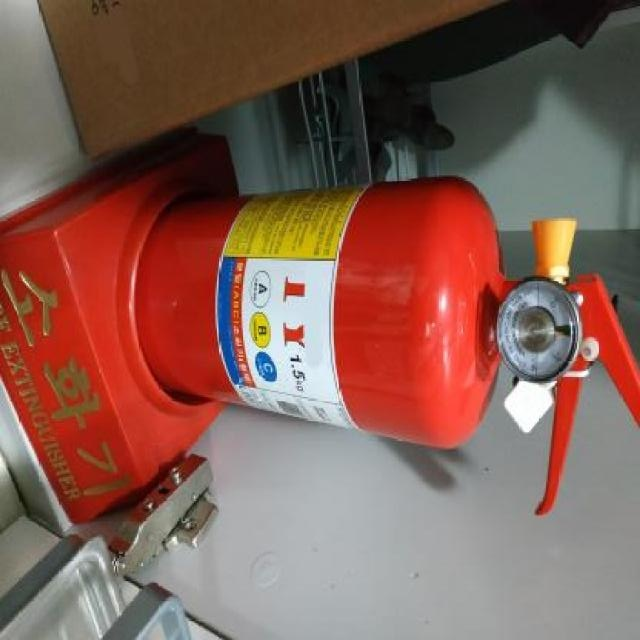fire extinguisher: (134, 174, 640, 517)
